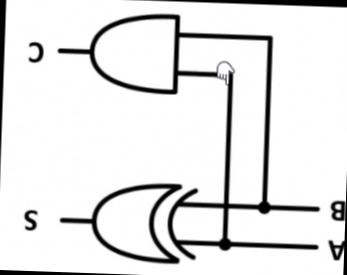and: (81, 9, 185, 97)
or: (76, 176, 200, 268)
